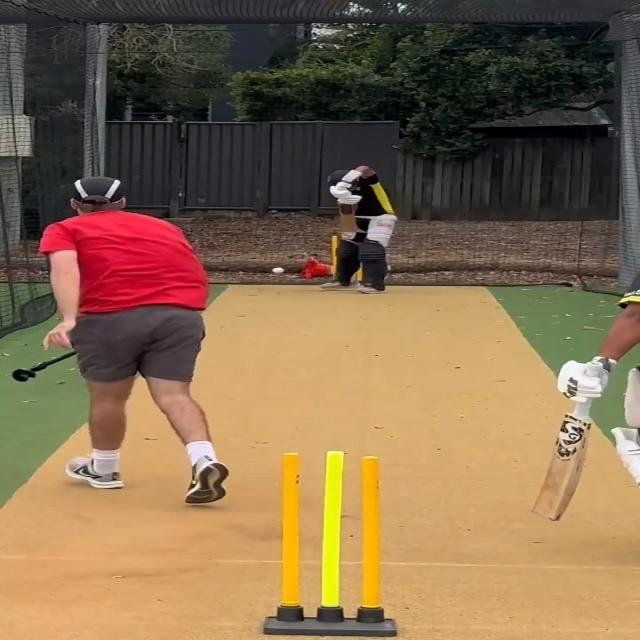ball: (272, 266, 286, 275)
stump: (258, 448, 401, 640)
